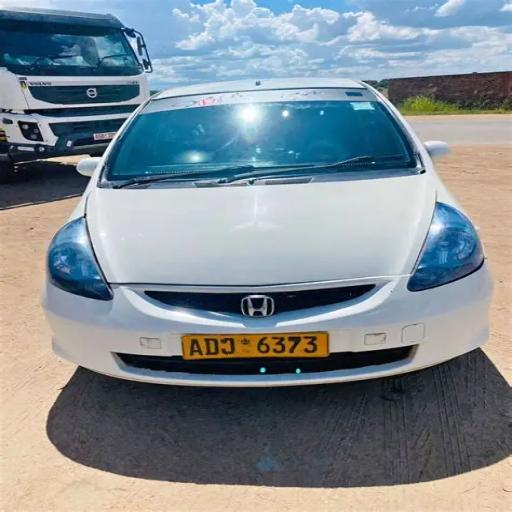number-plates: (181, 333, 328, 357)
